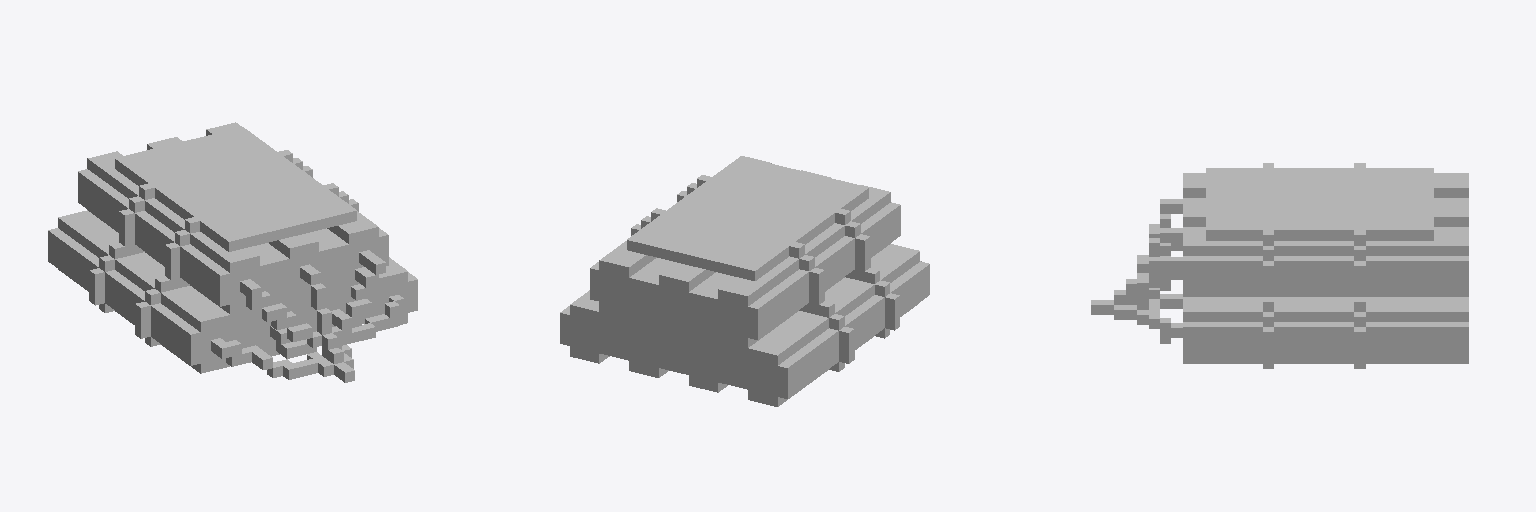
File: TNT.obj
3 renders of one model, left to right at view 1: azimuth 30°, elevation 25°; view 2: azimuth 150°, elevation 25°; view 3: azimuth 270°, elevation 25°, orthographic.
Parts seen in each view (by area): view 1: object 1; view 2: object 1; view 3: object 1.
Part boxes in pixels (bbox=[...]): object 1: bbox=[48, 122, 417, 382]; object 1: bbox=[560, 156, 929, 406]; object 1: bbox=[1091, 163, 1468, 368].
Size of the model in its own units: 2.5 by 1.1 by 3.3.